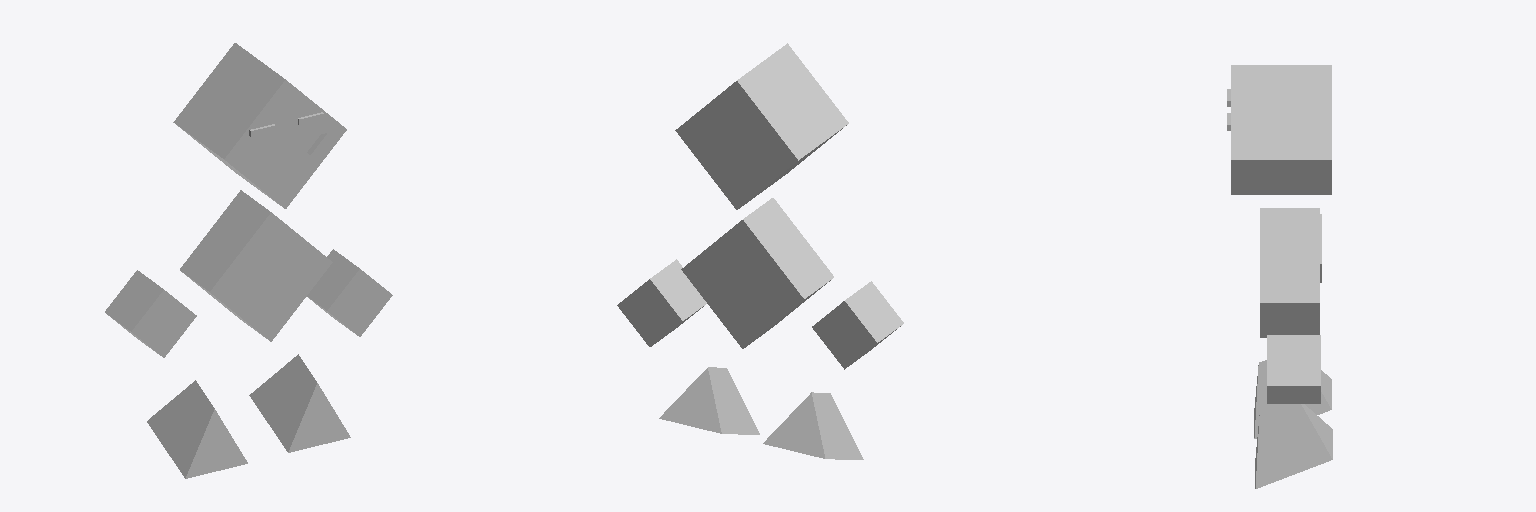
The model's file is Coadjuvantes02.obj.
3 views of the same model, side by side, from view 1: azimuth 30°, elevation 25°; view 2: azimuth 150°, elevation 25°; view 3: azimuth 270°, elevation 25° (orthographic).
Parts seen in each view (by area): view 1: Corpo_Cube.006; view 2: Corpo_Cube.006; view 3: Corpo_Cube.006.
Boxes of the visible parts, x1=… form: Corpo_Cube.006: x1=105, y1=43, x2=392, y2=478; Corpo_Cube.006: x1=617, y1=43, x2=903, y2=459; Corpo_Cube.006: x1=1227, y1=65, x2=1332, y2=488.
Bounding box in the file's own units: 2.78 × 3.93 × 0.9727.